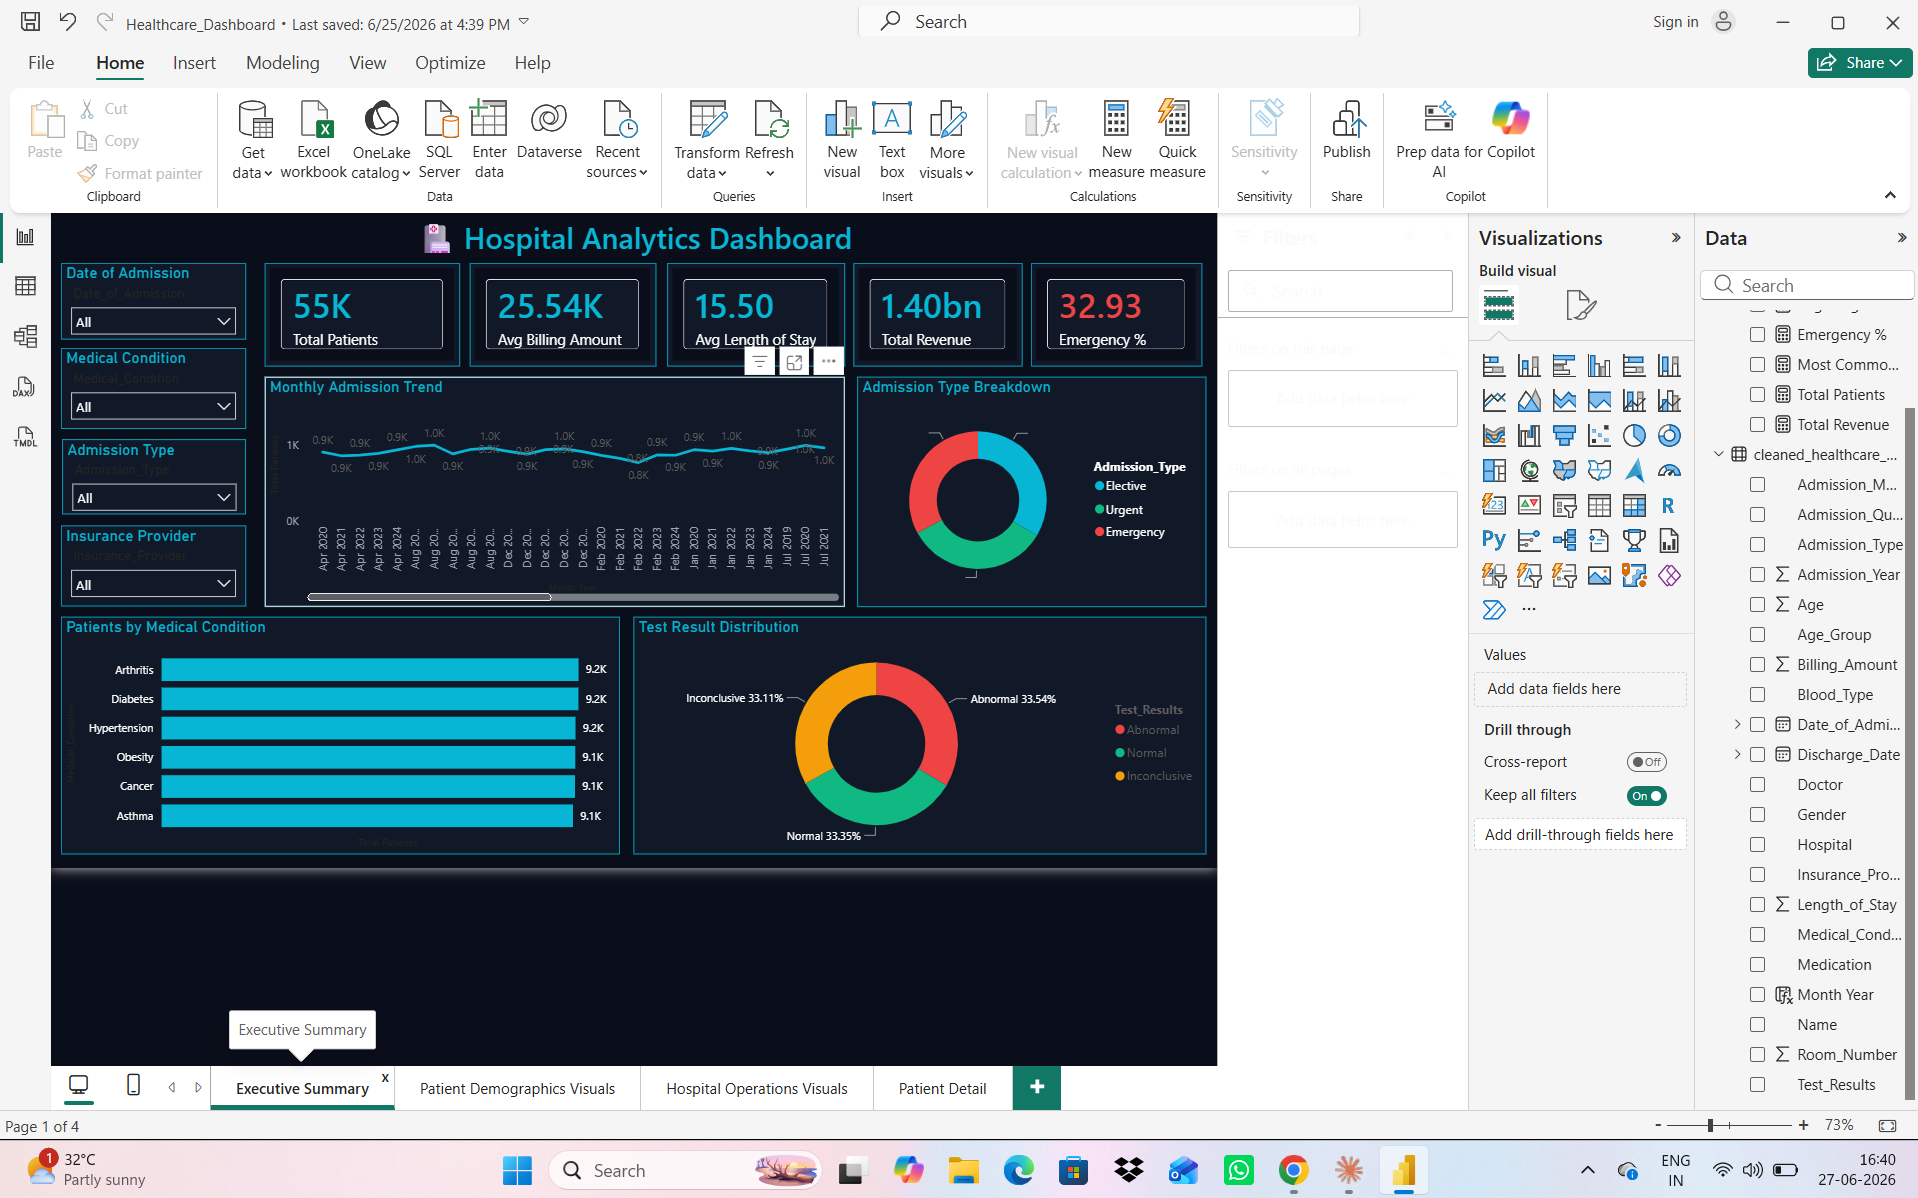

The dashboard page shown, as its layout file describes it:
{"tool":"powerbi","page":{"name":"Executive Summary","canvas":[1280,720],"ordinal":0},"visuals":[{"type":"textbox","box":[0,0,1280.3,54.9],"z":0},{"type":"cardVisual","fields":{"Data":["Table_Measures.Total Patients"]},"box":[234.6,54.9,214.1,113.9],"z":1000},{"type":"cardVisual","fields":{"Data":["Table_Measures.Avg Billing Amount"]},"box":[459.7,54.9,204.5,113.9],"z":2000},{"type":"cardVisual","fields":{"Data":["Table_Measures.Avg Length of Stay"]},"box":[676.5,54.9,194.9,113.9],"z":3000},{"type":"cardVisual","fields":{"Data":["Table_Measures.Total Revenue"]},"box":[881,54.9,185.2,113.9],"z":4000},{"type":"cardVisual","fields":{"Data":["Table_Measures.Emergency %"]},"box":[1075.8,54.9,188,113.9],"z":5000},{"type":"lineChart","title":"Monthly Admission Trend","fields":{"Category":["cleaned_healthcare_dataset.Month Year"],"Y":["Table_Measures.Total Patients"]},"box":[234.6,179.8,636.7,252.5],"z":6000},{"type":"donutChart","title":"Admission Type Breakdown","fields":{"Category":["cleaned_healthcare_dataset.Admission_Type"],"Y":["Table_Measures.Total Patients"]},"box":[885.1,179.8,382.8,252.5],"z":7000},{"type":"slicer","title":"Date of Admission","fields":{"Values":["cleaned_healthcare_dataset.Date_of_Admission"]},"box":[11,54.9,203.1,83.7],"z":8000},{"type":"slicer","title":"Insurance Provider","fields":{"Values":["cleaned_healthcare_dataset.Insurance_Provider"]},"box":[11,343.1,203.1,89.2],"z":9000},{"type":"slicer","title":"Medical Condition","fields":{"Values":["cleaned_healthcare_dataset.Medical_Condition"]},"box":[11,148.2,203.1,89.2],"z":10000},{"type":"slicer","title":"Admission Type","fields":{"Values":["cleaned_healthcare_dataset.Admission_Type"]},"box":[12.3,248.4,201.7,82.3],"z":11000},{"type":"clusteredBarChart","title":"Patients by Medical Condition","fields":{"Y":["Table_Measures.Total Patients"],"Category":["cleaned_healthcare_dataset.Medical_Condition"]},"box":[11,443.2,613.4,260.7],"z":12000},{"type":"donutChart","title":"Test Result Distribution","fields":{"Category":["cleaned_healthcare_dataset.Test_Results"],"Y":["Table_Measures.Total Patients"]},"box":[639.5,443.2,628.5,260.7],"z":13000}]}

Visuals, with their boxes on the page's 1280x720 design canvas (x1, y1, x2, y2). These are canvas units, not pixel positions in the 1918x1198 screenshot, which may show the page scaled, cropped or inside an application window:
textbox: <box>0,0,1280,55</box>
cardVisual - Table_Measures.Total Patients: <box>235,55,449,169</box>
cardVisual - Table_Measures.Avg Billing Amount: <box>460,55,664,169</box>
cardVisual - Table_Measures.Avg Length of Stay: <box>676,55,871,169</box>
cardVisual - Table_Measures.Total Revenue: <box>881,55,1066,169</box>
cardVisual - Table_Measures.Emergency %: <box>1076,55,1264,169</box>
"Monthly Admission Trend" lineChart: <box>235,180,871,432</box>
"Admission Type Breakdown" donutChart: <box>885,180,1268,432</box>
"Date of Admission" slicer: <box>11,55,214,139</box>
"Insurance Provider" slicer: <box>11,343,214,432</box>
"Medical Condition" slicer: <box>11,148,214,237</box>
"Admission Type" slicer: <box>12,248,214,331</box>
"Patients by Medical Condition" clusteredBarChart: <box>11,443,624,704</box>
"Test Result Distribution" donutChart: <box>640,443,1268,704</box>
